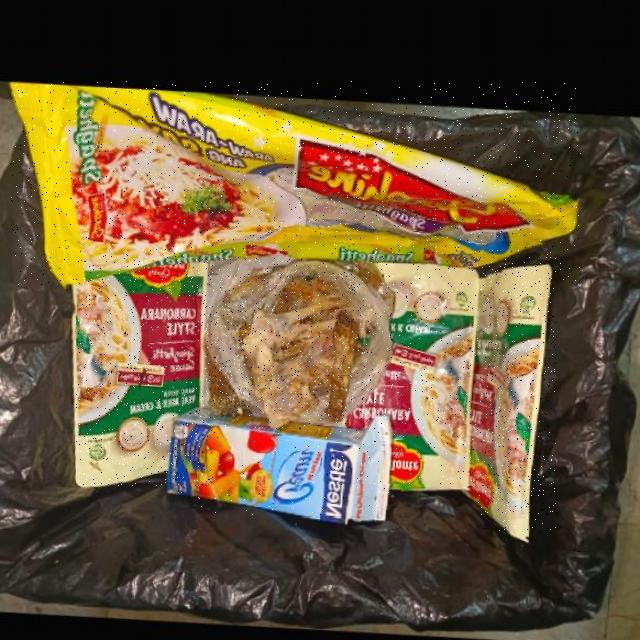biowaste: (246, 274, 369, 426)
paper: (176, 404, 401, 517)
plastic: (210, 248, 401, 425)
wrapper: (12, 81, 581, 285), (76, 259, 213, 486), (353, 255, 484, 484), (479, 256, 556, 532)
